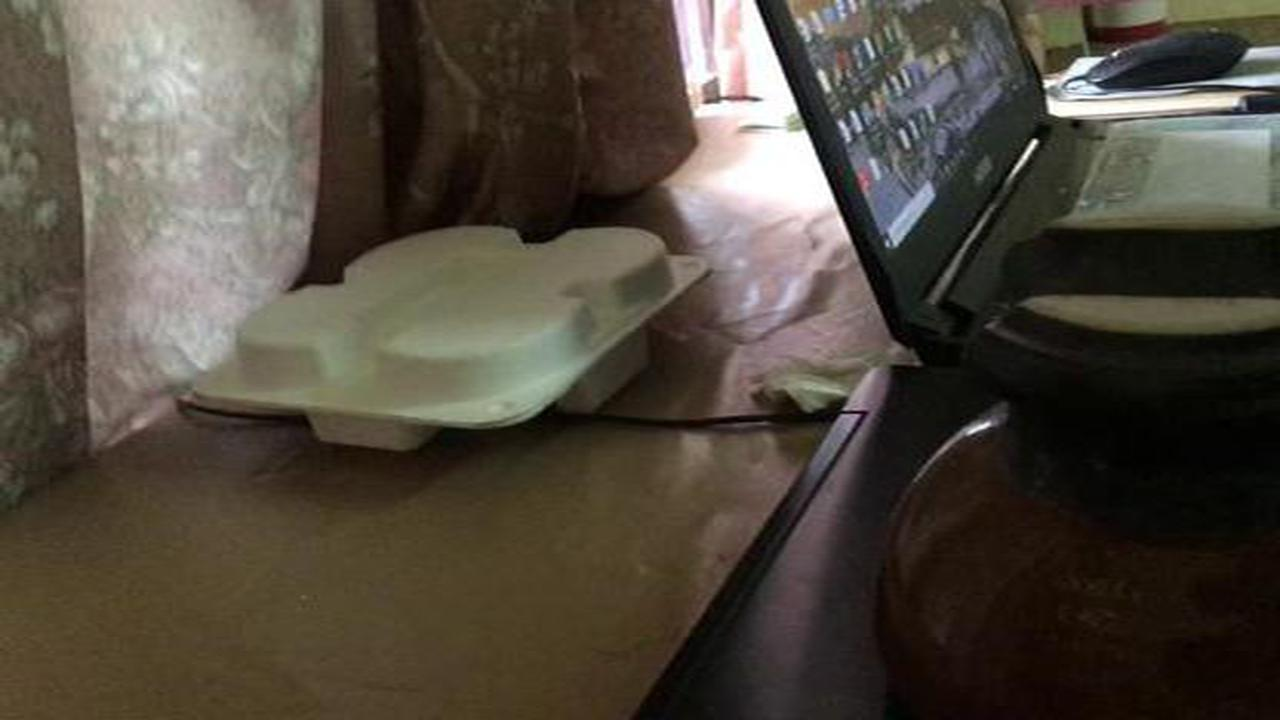insulator_pin: (862, 198, 1277, 715)
